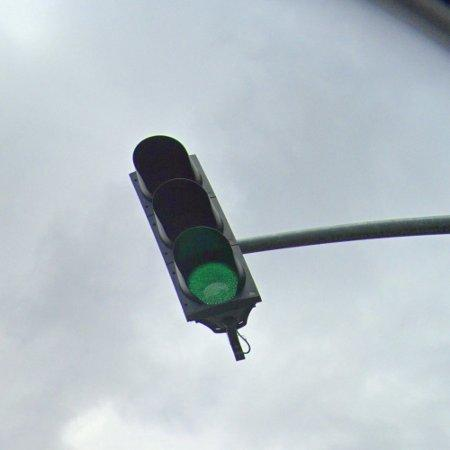traffic lights: (130, 135, 261, 333)
